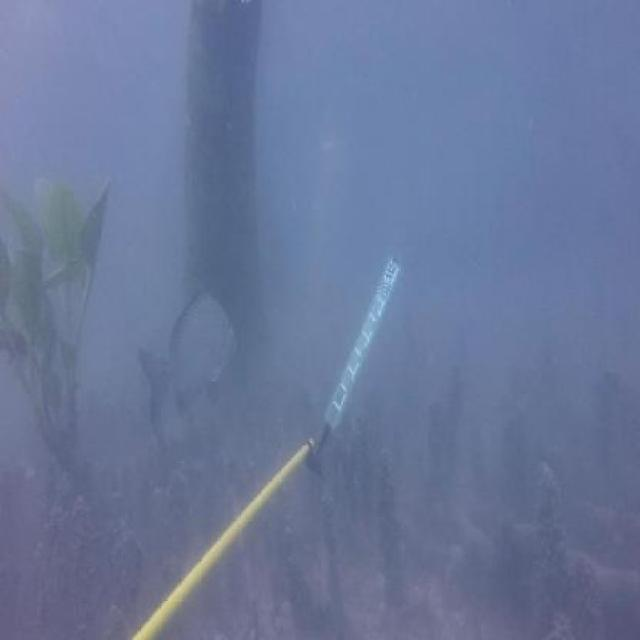acanthopagrus_palmaris: (137, 287, 240, 418)
